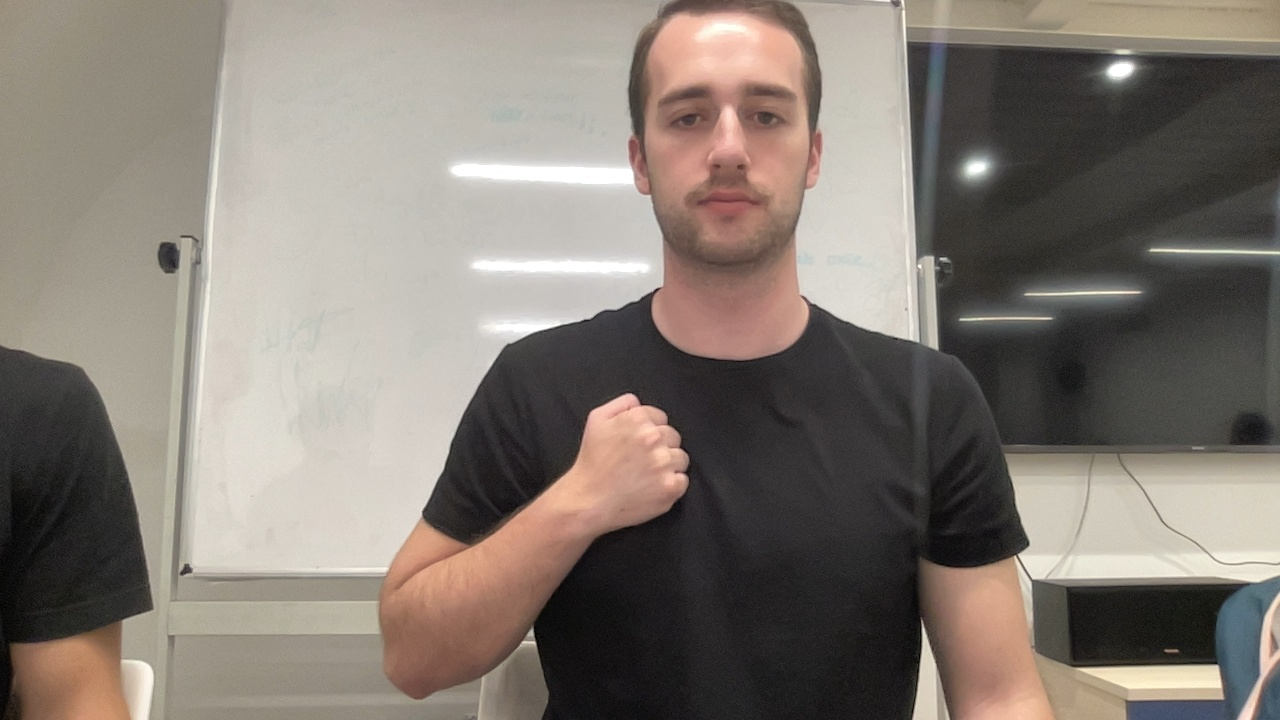Sorry: (376, 388, 693, 703)
